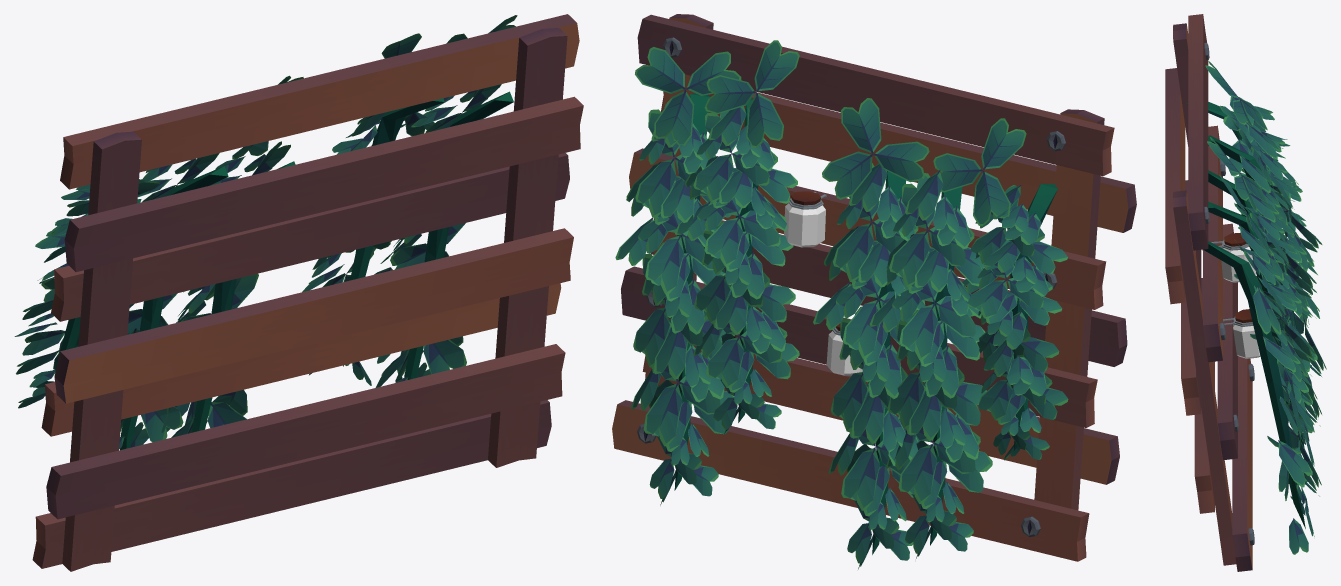
File: Prop_JarPalette.fbx
The picture shows the model from 3 angles, left to right: view 1: azimuth 30°, elevation 25°; view 2: azimuth 150°, elevation 25°; view 3: azimuth 270°, elevation 25°; orthographic projection. The views are drawn at different scales.
Parts seen in each view (by area): view 1: PinterestPalette; view 2: PinterestPalette; view 3: PinterestPalette.
Boxes of the visible parts, x1,y1,x2,y2 form: PinterestPalette: (14,14,583,571); PinterestPalette: (612,14,1136,569); PinterestPalette: (1165,14,1326,571).
Bounding box in the file's own units: 314 × 287 × 105.
